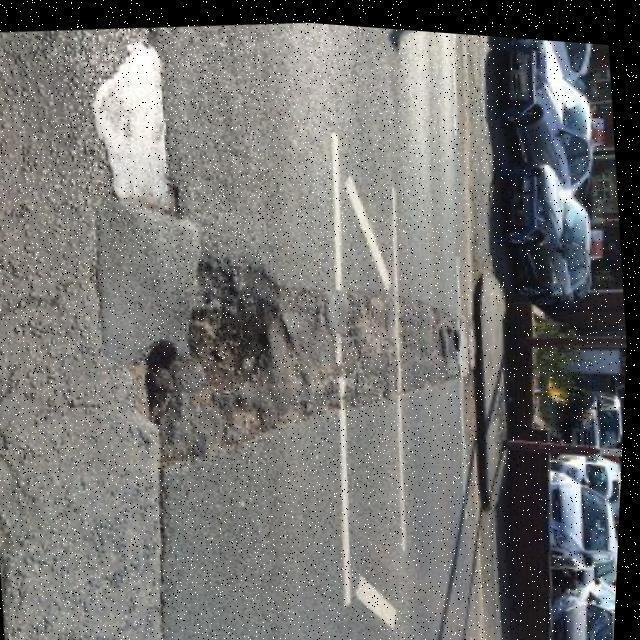Pothole: (190, 245, 464, 437), (94, 25, 183, 226), (142, 336, 212, 471)
